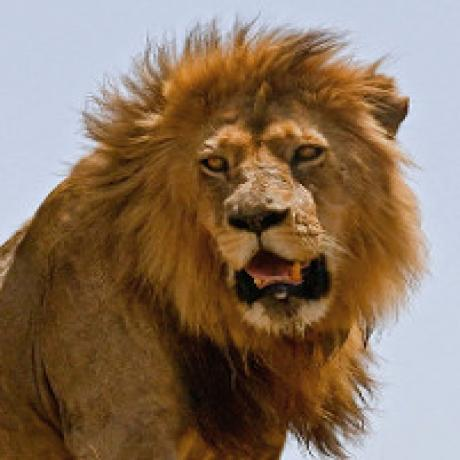Lion: (0, 21, 396, 458)
